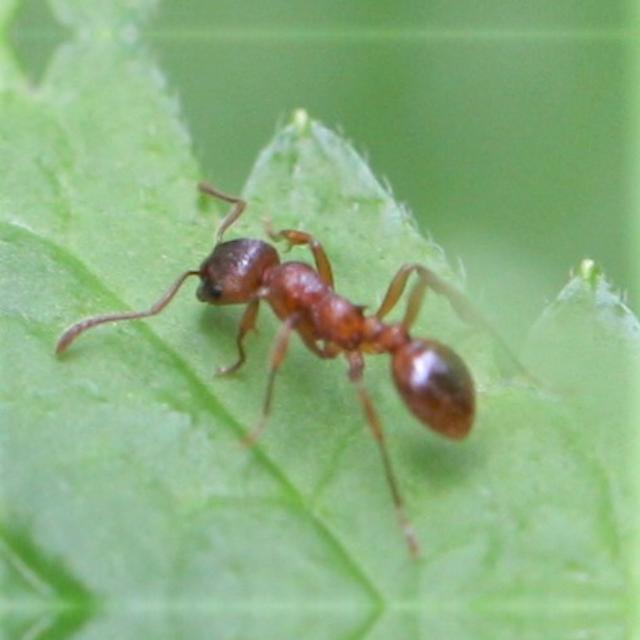Myrmica: (106, 165, 514, 483)
